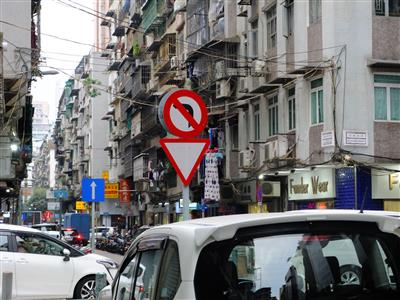noLeftTurn: (155, 85, 211, 139)
oneway: (79, 174, 106, 205)
yield: (154, 135, 210, 186)
